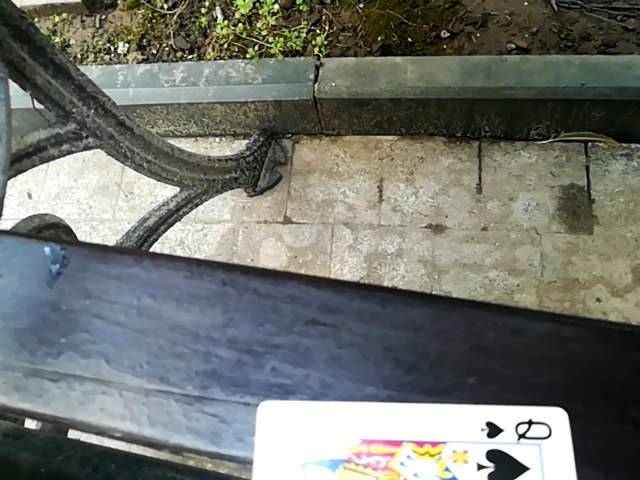ht q: (218, 402, 590, 479)
